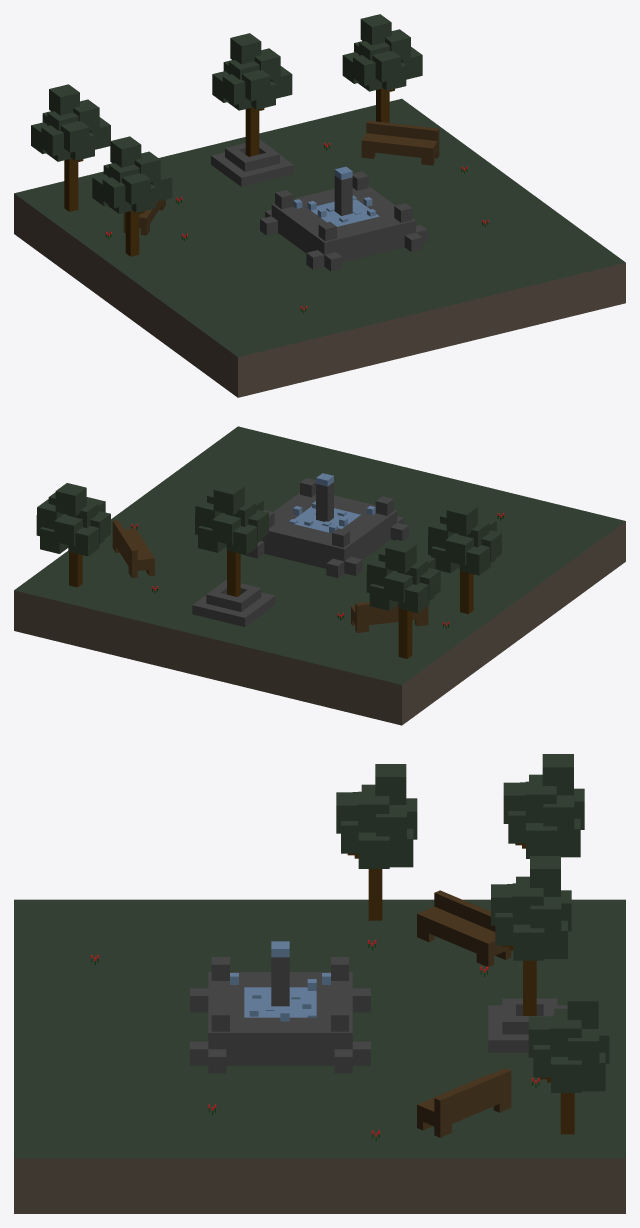
Rendered from park-mem.glb.
3 views of the same model, one above another, from view 1: azimuth 30°, elevation 25°; view 2: azimuth 150°, elevation 25°; view 3: azimuth 270°, elevation 25° (orthographic). The views are drawn at different scales.
Parts seen in each view (by area): view 1: Tile::Fountain.002; view 2: Tile::Fountain.002; view 3: Tile::Fountain.002.
Boxes of the visible parts, box(x1,y1,x2,y2) form: Tile::Fountain.002: box(14, 14, 625, 397); Tile::Fountain.002: box(14, 426, 625, 725); Tile::Fountain.002: box(14, 754, 625, 1213).
Bounding box in the file's own units: 1 × 0.4101 × 1.
